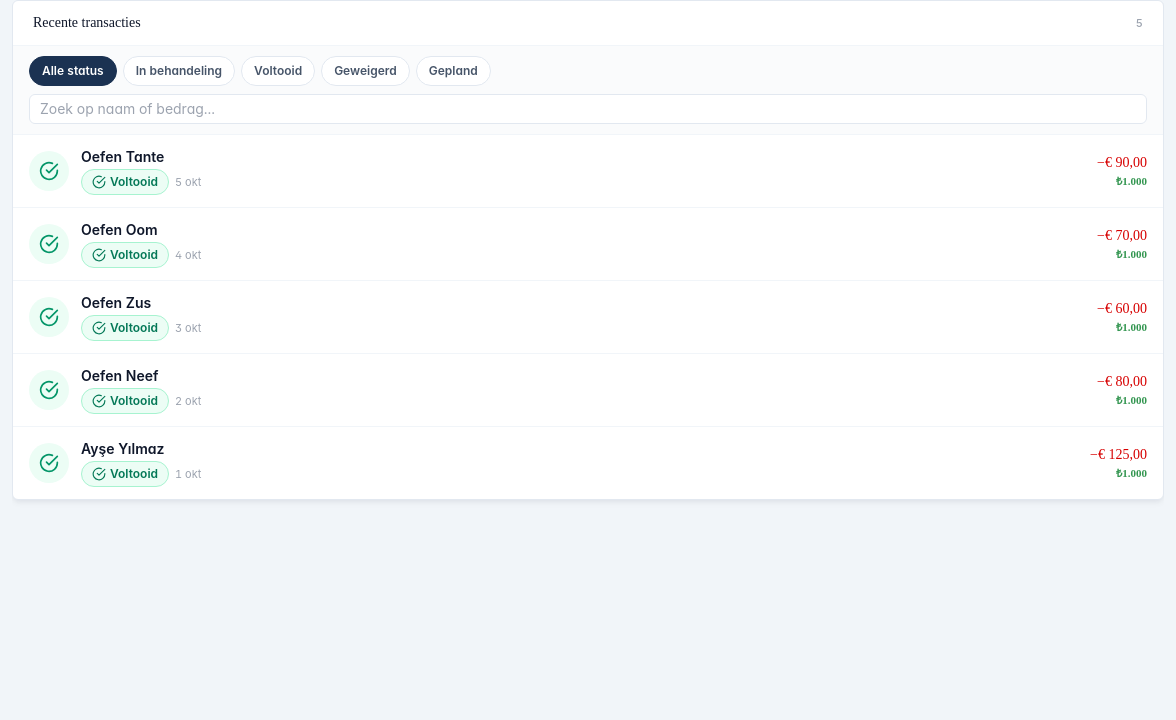
Scenario: zoeken op naam › RecentTransacties: "yilmaz" vindt Yılmaz; zoeken op bedrag werkt nog
Type "yilmaz" into the search field named "Zoek transacties" at (588, 109), box left=29, top=94, right=1147, bottom=124
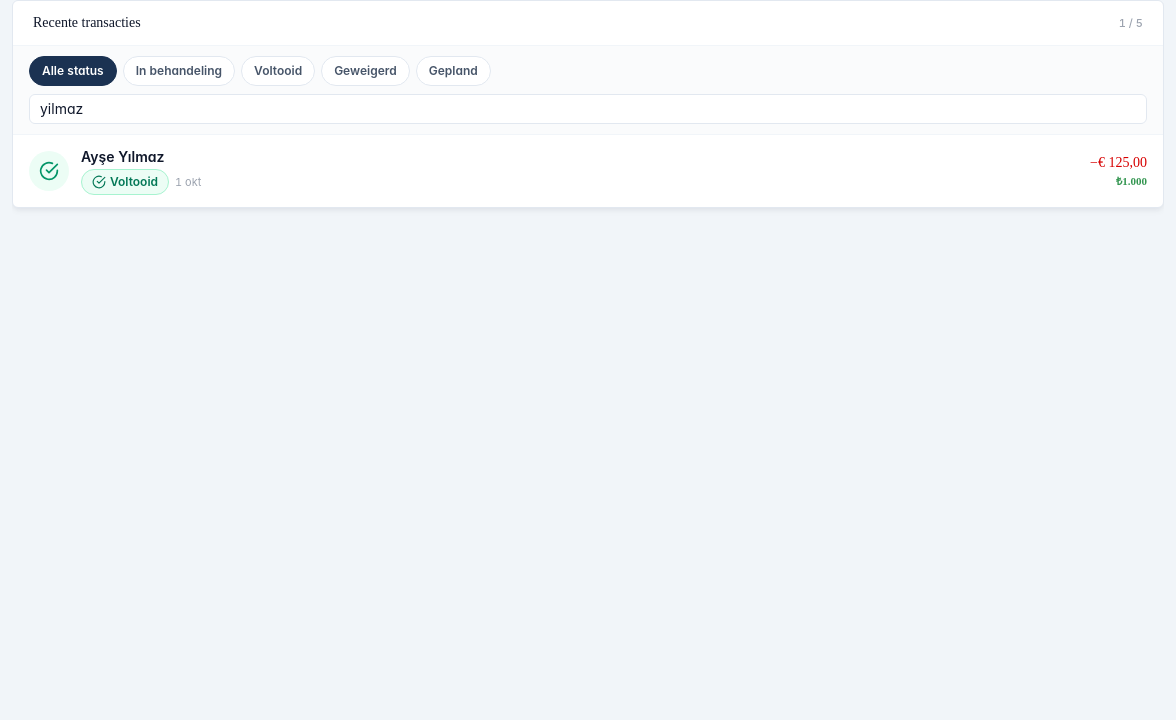
expect the text "Ayşe Yılmaz" is shown: met, box left=81, top=148, right=164, bottom=165
expect the button "Oefen Neef" is gone: met
Replace the text in the search field named "Zoek transacties" with "80" at (588, 109), box left=29, top=94, right=1147, bottom=124
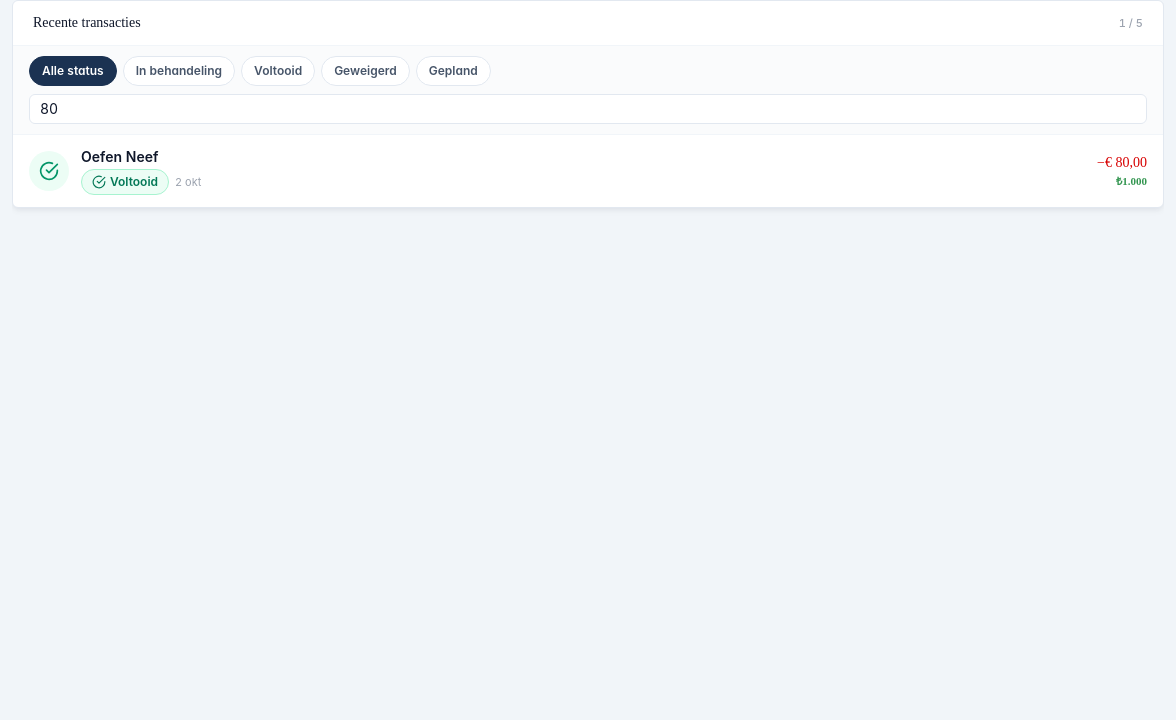
expect the text "Oefen Neef" is shown: met, box left=81, top=148, right=158, bottom=165
expect the button "Ayşe Yılmaz" is gone: met
